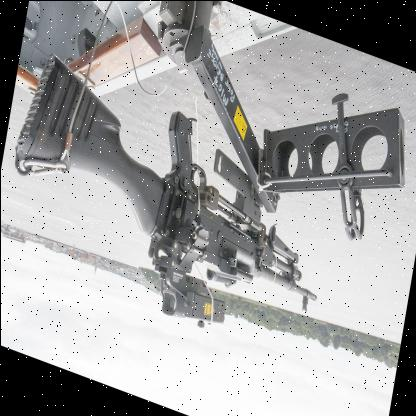rifle: (13, 51, 343, 323)
